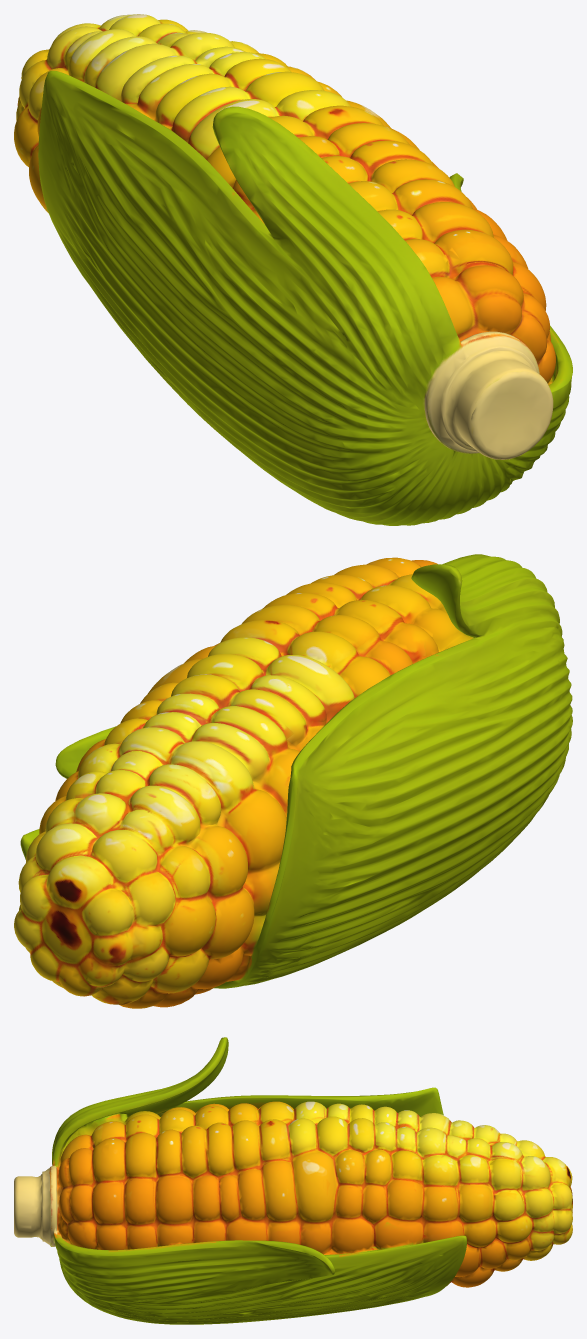
The model's file is SM_Yumi.fbx.
3 views of the same model, one above another, from view 1: azimuth 30°, elevation 25°; view 2: azimuth 150°, elevation 25°; view 3: azimuth 270°, elevation 25° (orthographic). The views are drawn at different scales.
Visible parts, largest first — view 1: node_0; view 2: node_0; view 3: node_0.
Boxes of the visible parts, x1,y1,x2,y2 form: node_0: [14, 14, 572, 525]; node_0: [14, 554, 572, 1008]; node_0: [14, 1037, 572, 1324].
Size of the model in its own units: 55.3 by 56.71 by 118.
Materials: 1 (1 with a texture image).
